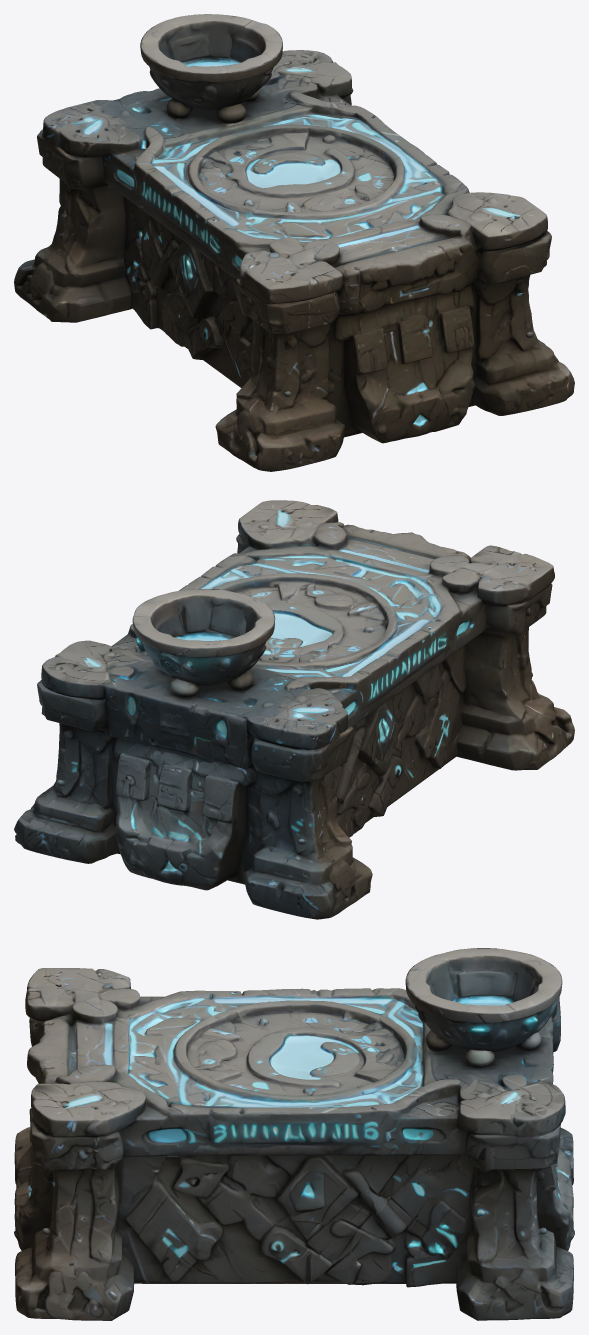
File: prop-altar.glb
3 views of the same model, one above another, from view 1: azimuth 30°, elevation 25°; view 2: azimuth 150°, elevation 25°; view 3: azimuth 270°, elevation 25° (orthographic). The views are drawn at different scales.
Parts seen in each view (by area): view 1: tripo_node_af6e58d9-865b-4f0a-b2a3-a216cacf50f2; view 2: tripo_node_af6e58d9-865b-4f0a-b2a3-a216cacf50f2; view 3: tripo_node_af6e58d9-865b-4f0a-b2a3-a216cacf50f2.
Part boxes in pixels (x1=…): tripo_node_af6e58d9-865b-4f0a-b2a3-a216cacf50f2: x1=14, y1=14, x2=574, y2=471; tripo_node_af6e58d9-865b-4f0a-b2a3-a216cacf50f2: x1=14, y1=500, x2=574, y2=919; tripo_node_af6e58d9-865b-4f0a-b2a3-a216cacf50f2: x1=14, y1=948, x2=574, y2=1320.
Size of the model in its own units: 2.09 by 1.5 by 2.9.
1 material, 1 textured.
